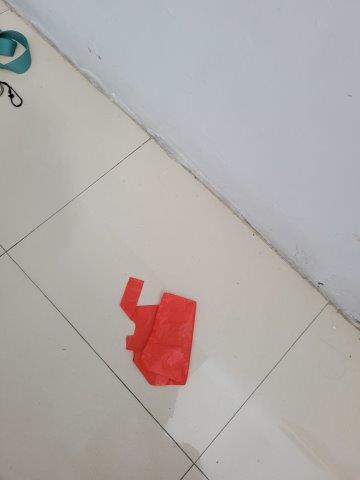plastik: (119, 277, 198, 385)
